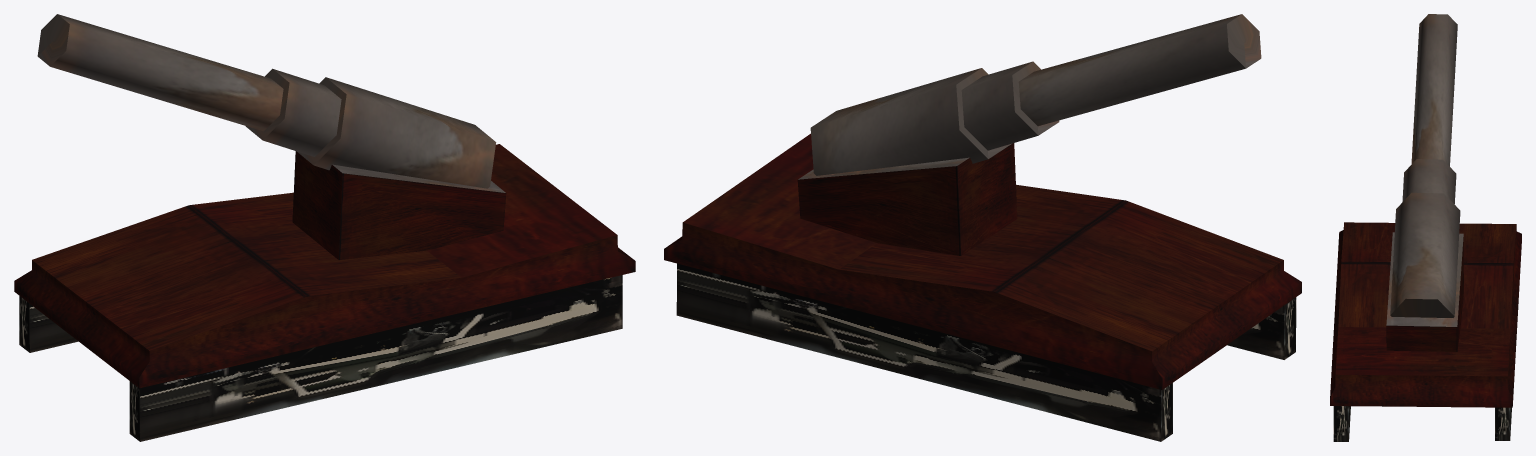
Rendered from longgun.gltf.
3 renders of one model, left to right at view 1: azimuth 30°, elevation 25°; view 2: azimuth 150°, elevation 25°; view 3: azimuth 270°, elevation 25°, orthographic. The views are drawn at different scales.
Visible parts, largest first — view 1: longgun_atomic0; view 2: longgun_atomic0; view 3: longgun_atomic0.
Part boxes in pixels (x1,y1,x2,y2): longgun_atomic0: (14, 14, 635, 441); longgun_atomic0: (664, 14, 1301, 441); longgun_atomic0: (1330, 14, 1521, 441).
Size of the model in its own units: 46.92 by 32.33 by 21.38.
3 materials, 3 textured.
